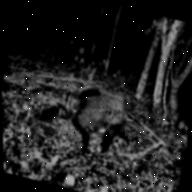boar: (44, 73, 133, 167)
